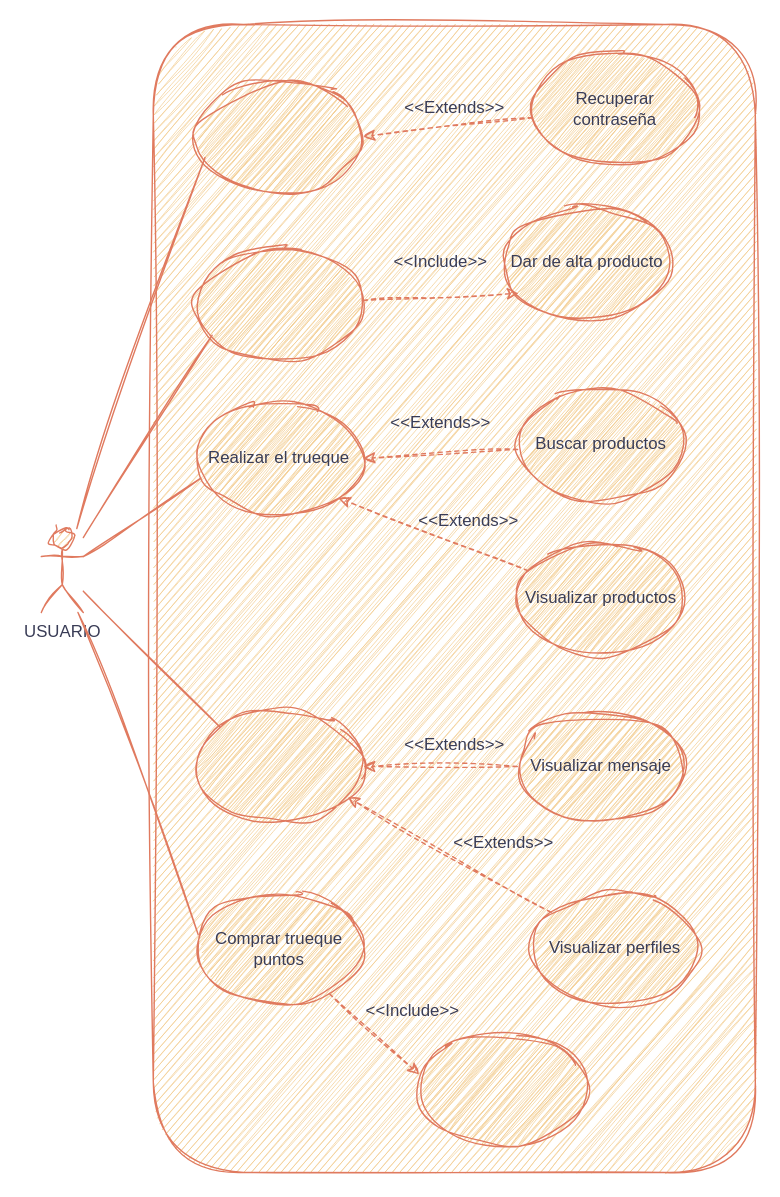
Image size: 780x1197. Some labels were removed from this diagram. Here are the shapes that lost their labels. From the top down, the centre of each, then its label:
the point at 278,135: Iniciar Sesion
the point at 278,303: Publicar trueque
the point at 278,765: Negociar
the point at 502,1087: Validar tarjeta
